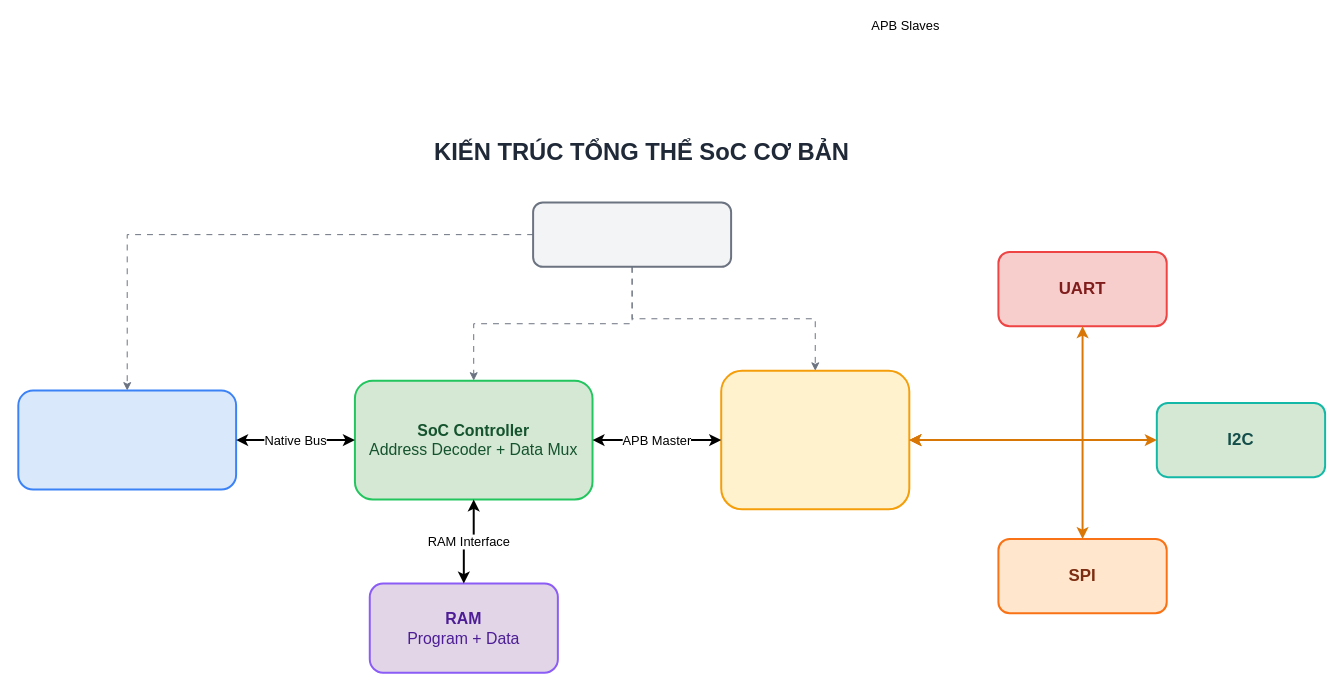
The diagram is 1342 pixels wide and 690 high, and some of its shapes have lost their labels. The box of each missing label's shape, as (x1, y1, x2, y2) in pixels:
APB Bus APB Interconnect: (720, 369, 910, 510)
Clock / Reset: (532, 201, 732, 267)
CPU FemtoRV32 Quark: (17, 389, 237, 490)
